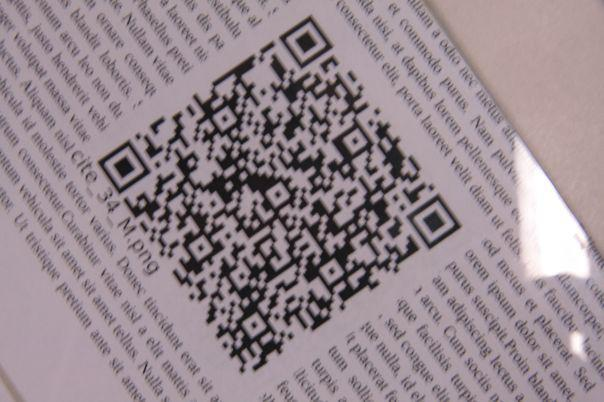Finder pattern: (401, 191, 460, 250), (280, 15, 333, 67), (96, 143, 155, 189)
